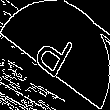P_SW: (31, 24, 79, 86)
